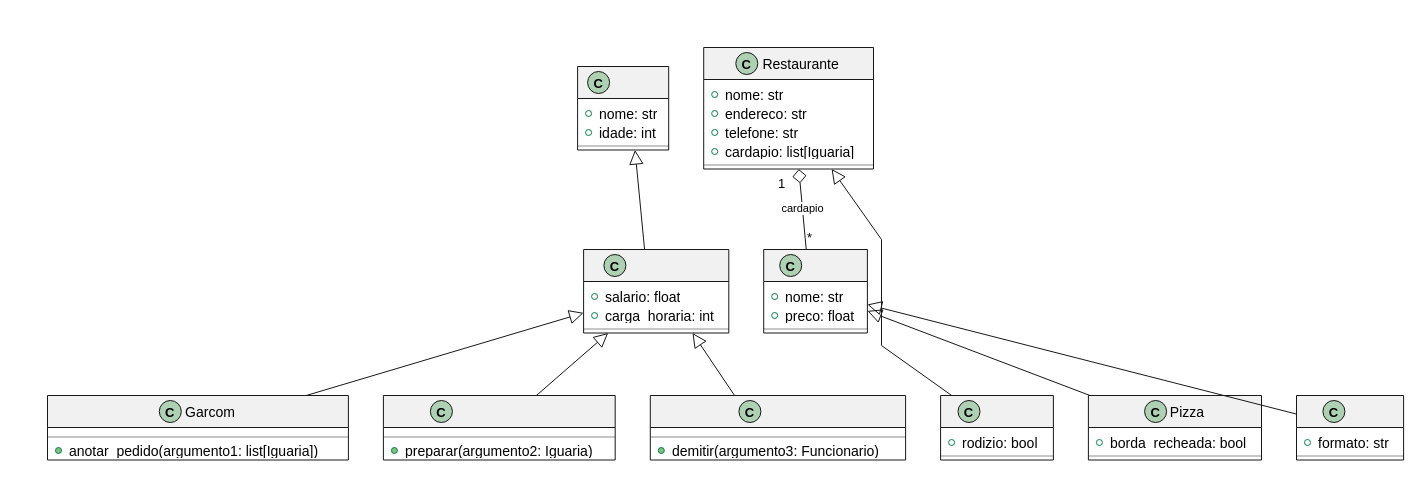
The diagram is 1421 pixels wide and 477 high, and some of its shapes have lost their labels. Here are the shapes that lost their labels. From the top down, the box of each, then its label:
(577, 66, 669, 150): Pessoa
(583, 248, 729, 333): Funcionario
(763, 248, 867, 333): Iguaria
(382, 394, 615, 460): ChefeDeCozinha
(649, 394, 906, 460): Gerente
(940, 394, 1053, 460): Pizzaria
(1296, 394, 1404, 460): Bolo
